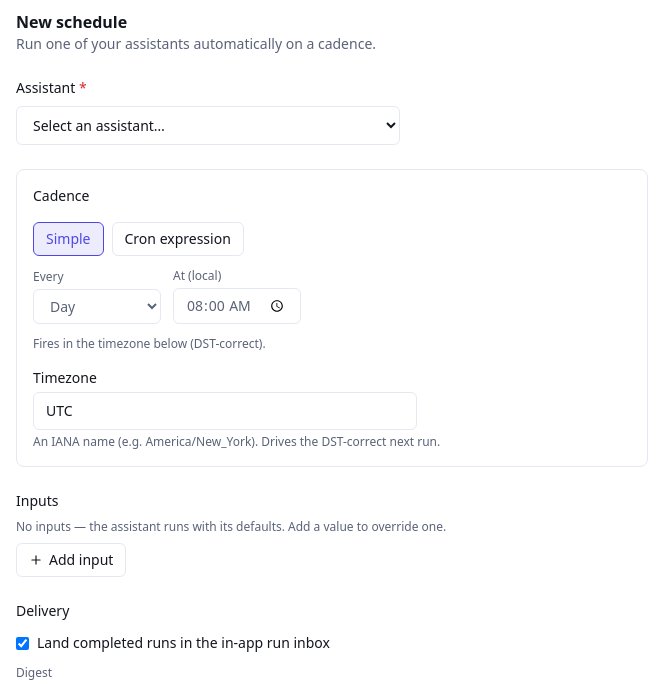
Test: ScheduleEditor (create) › validates a malformed cron expression with a friendly message (AC-4)
The width and height of the screenshot is (665, 684).
Note: Switch to cron mode and type a bad expression.
Click the radio button labelled "Cron expression" at (178, 239), box x1=112 y1=222 x2=244 y2=256
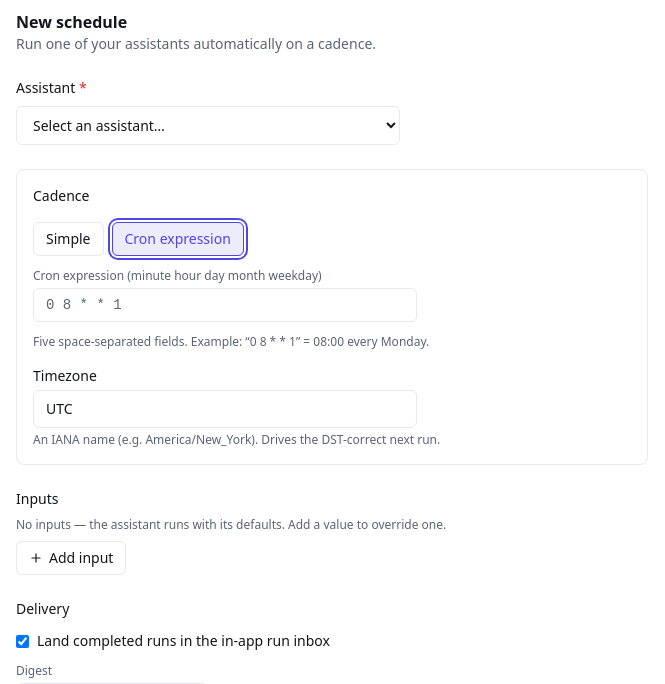
Type "not a cron" into the field with placeholder "0 8 * * 1" at (225, 305), box x1=33 y1=288 x2=417 y2=322
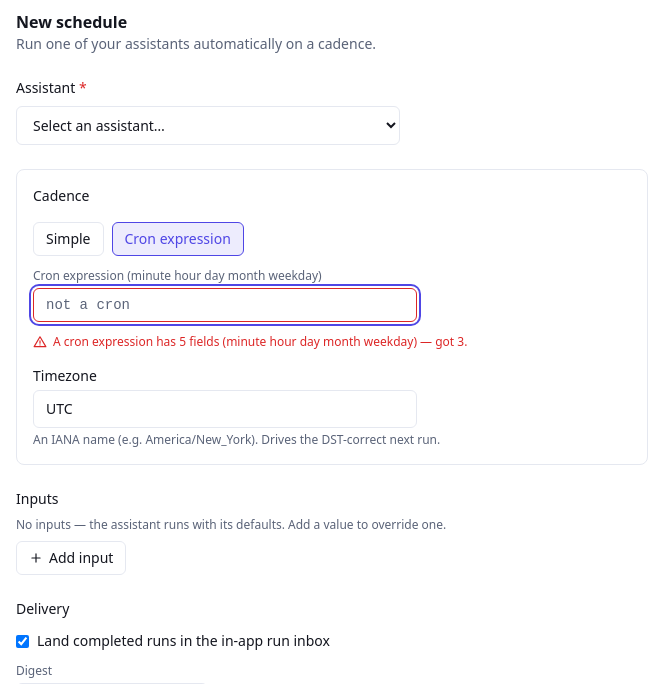
Expected: the text "A cron expression has 5 fields (minute hour day month weekday) — got 3." is shown, x1=33 y1=333 x2=467 y2=350
